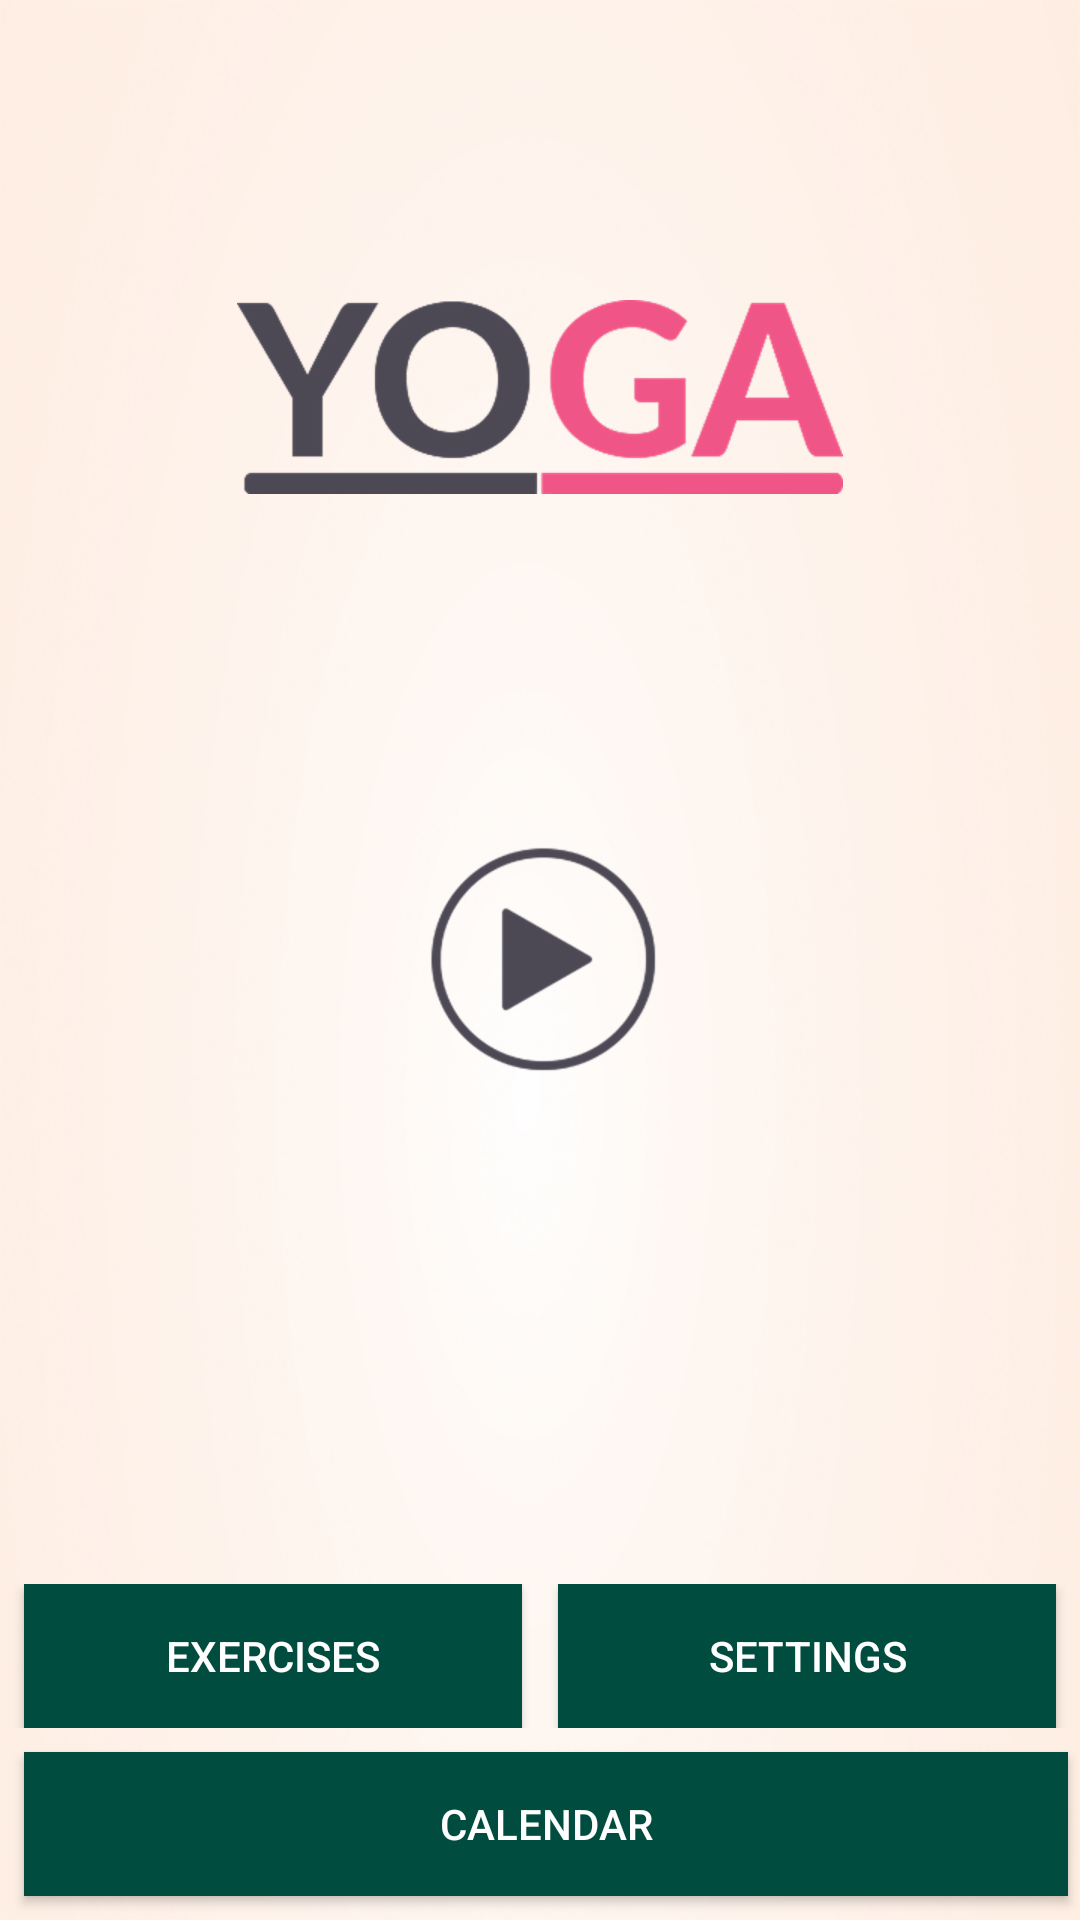

Named icons in this screenshot (1080*1920) and their centers, [x,y]:
play: [543,959]
